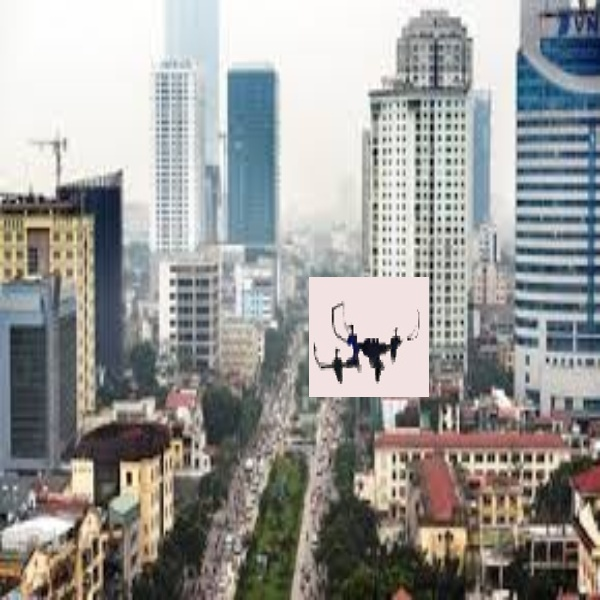drone: (313, 288, 427, 392)
